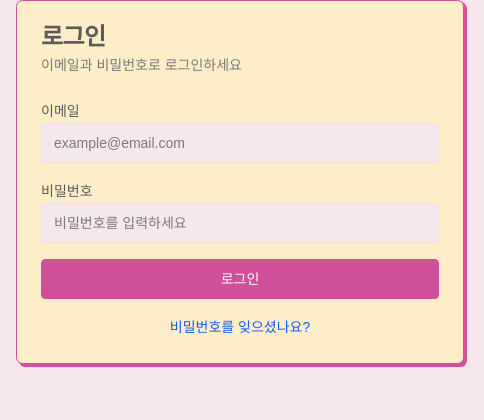
Scenario: LoginForm › 유효하지 않은 이메일 형식에 대해 에러 메시지를 표시한다
// HTML5 validation을 우회하기 위해 직접 상태 변경
Type "notanemail" into the field labelled "이메일" at (240, 143), box [41,123,439,163]
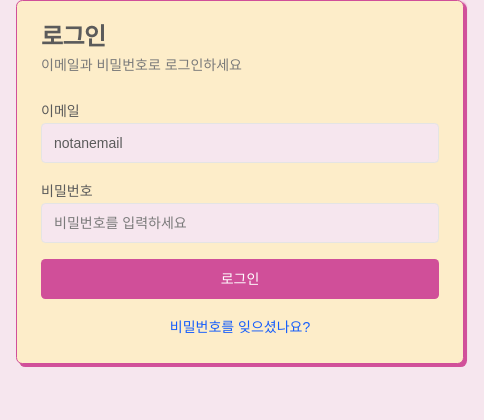
Type "password123" into the password field labelled "비밀번호" at (240, 223), box [41,203,439,243]
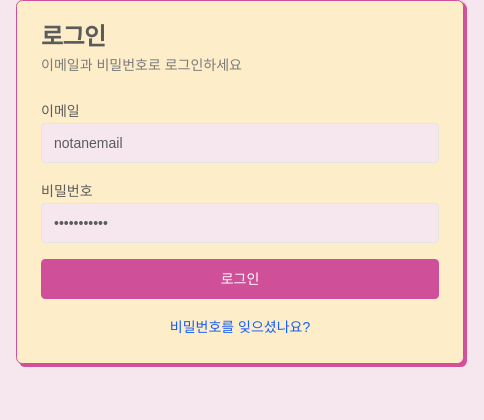
// form submit 이벤트를 직접 트리거
Submit the form labelled "이메일", box [41,99,439,339]
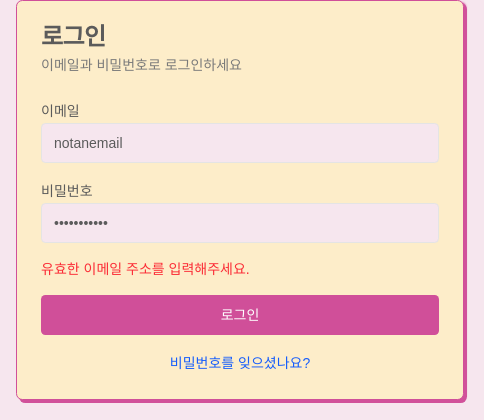
Check: the text "유효한 이메일 주소를 입력해주세요." is shown, box [41,261,250,277]
